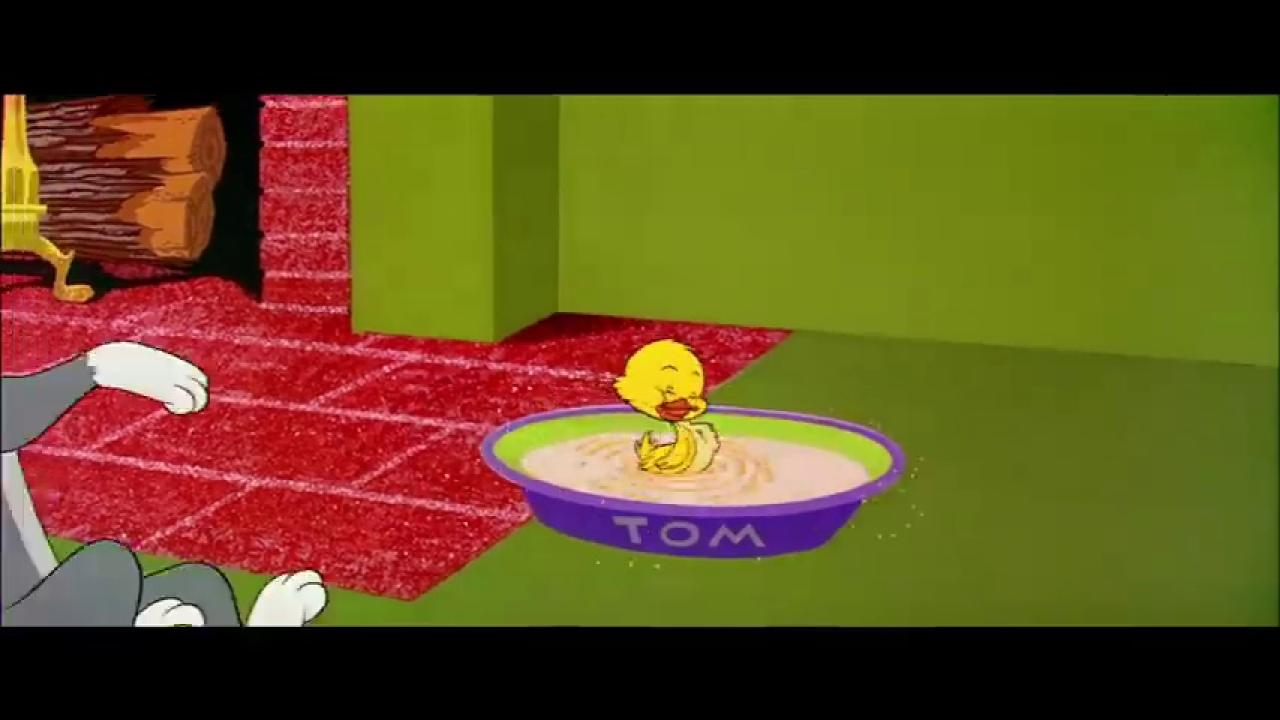Tom: (1, 327, 331, 627)
